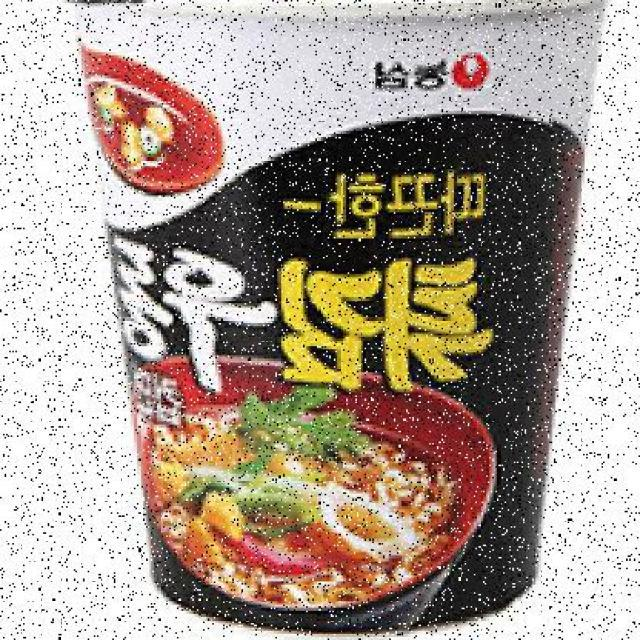Miscellaneous: (39, 0, 624, 640)
